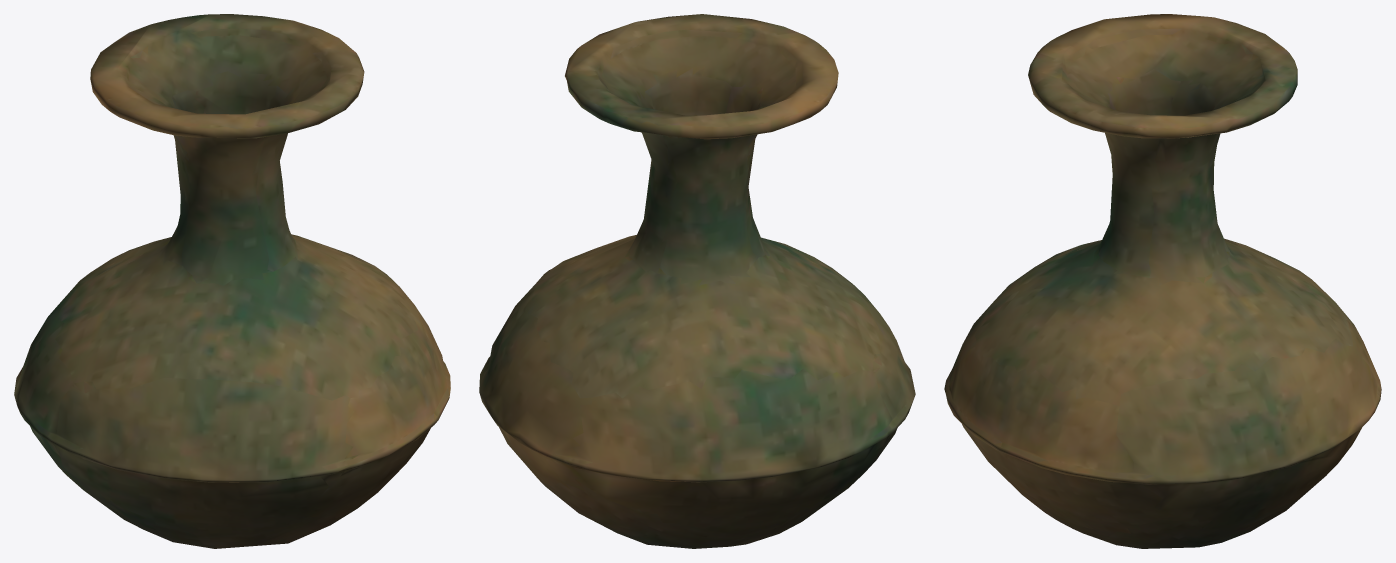
Rendered from sturdy-bronze-amphora-v001.glb.
3 views of the same model, side by side, from view 1: azimuth 30°, elevation 25°; view 2: azimuth 150°, elevation 25°; view 3: azimuth 270°, elevation 25° (orthographic).
Parts seen in each view (by area): view 1: sturdy-bronze-amphora; view 2: sturdy-bronze-amphora; view 3: sturdy-bronze-amphora.
Part boxes in pixels (left/top/right/bottom): sturdy-bronze-amphora: left=14, top=14, right=450, bottom=548; sturdy-bronze-amphora: left=479, top=14, right=915, bottom=548; sturdy-bronze-amphora: left=944, top=14, right=1381, bottom=548.
Size of the model in its own units: 0.7858 by 0.8588 by 0.7834.
Materials: 1 (1 with a texture image).
